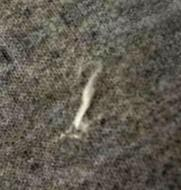snag: (68, 65, 107, 138)
